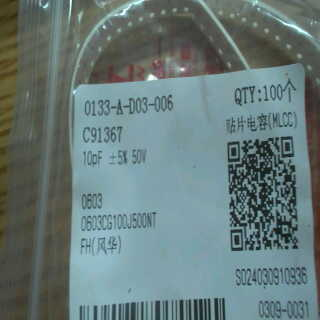10pF: (82, 146, 106, 169)
